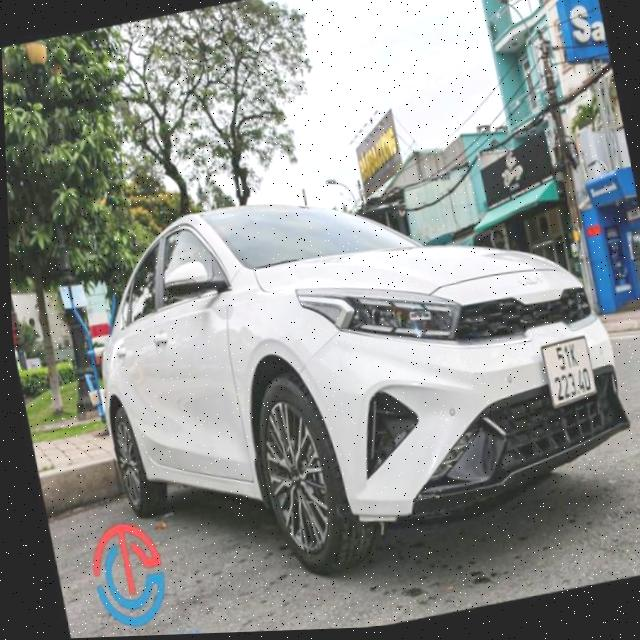car: (69, 163, 640, 604)
plate: (535, 330, 601, 409)
